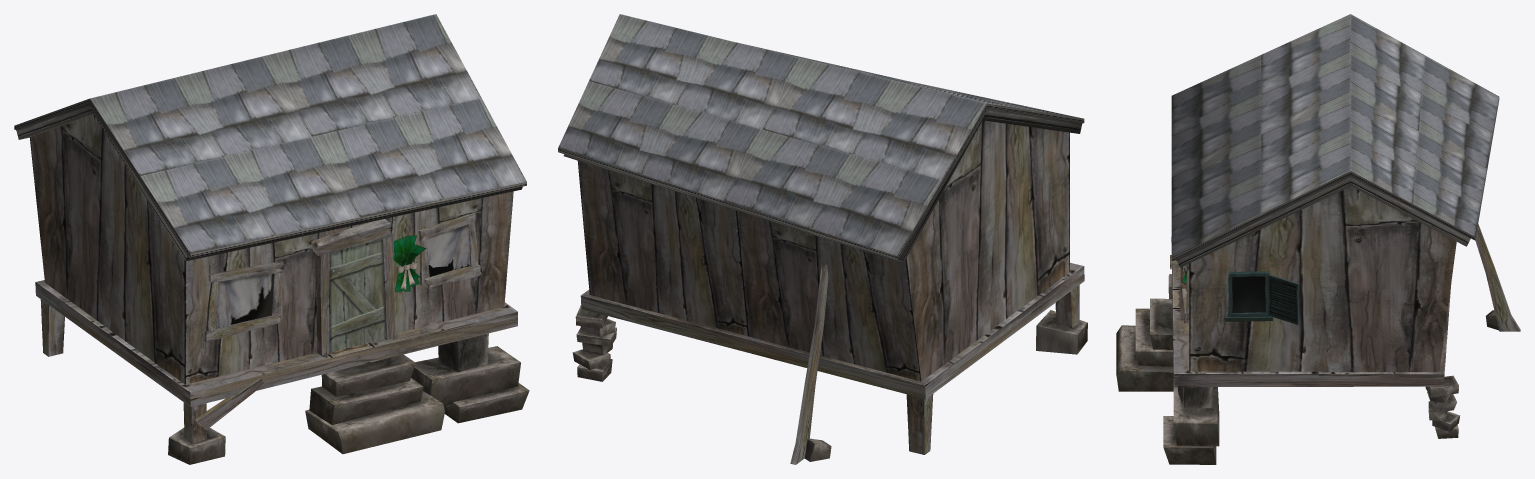
File: shanty_npc_house_combo_I.fbx
3 views of the same model, side by side, from view 1: azimuth 30°, elevation 25°; view 2: azimuth 150°, elevation 25°; view 3: azimuth 270°, elevation 25° (orthographic). The views are drawn at different scales.
Parts seen in each view (by area): view 1: house_geo, platform, door_left, stair1, pasted__stair9, stair2, curtain1, stair3, pasted__stair11, group1, wood13, atone (+10 smaller); view 2: house_geo, platform, wood_support, atone, support1, post; view 3: house_geo, platform, stair1, pasted__stair9, wood_support, pasted__stair11, shutter, stair2, Glass, stair3, woodFrame, pasted__stair8 (+1 smaller).
Boxes of the visible parts, x1,y1,x2,y2 form: house_geo: (14, 14, 526, 384); platform: (35, 280, 517, 406); door_left: (329, 239, 385, 352); stair1: (305, 391, 444, 454); pasted__stair9: (411, 346, 520, 405); stair2: (309, 378, 423, 424); curtain1: (217, 273, 273, 328); stair3: (321, 354, 415, 396); pasted__stair11: (444, 383, 529, 423); group1: (427, 224, 470, 276); wood13: (311, 219, 391, 255); atone: (168, 427, 225, 464); house_geo: (558, 14, 1084, 381); platform: (580, 262, 1084, 399); wood_support: (790, 263, 828, 464); atone: (1036, 310, 1087, 354); support1: (906, 394, 933, 454); post: (1055, 285, 1079, 327); house_geo: (1171, 14, 1499, 371); platform: (1171, 237, 1451, 387); stair1: (1116, 325, 1173, 391); pasted__stair9: (1173, 387, 1219, 446); wood_support: (1475, 224, 1520, 331); pasted__stair11: (1163, 416, 1216, 464); shutter: (1268, 274, 1298, 324); stair2: (1135, 308, 1173, 366); Glass: (1232, 276, 1265, 312); stair3: (1150, 298, 1172, 349); woodFrame: (1224, 271, 1272, 321); pasted__stair8: (1178, 387, 1212, 409).
Size of the model in its own units: 2668 by 2258 by 2764.
Materials: 4 (4 with a texture image).
